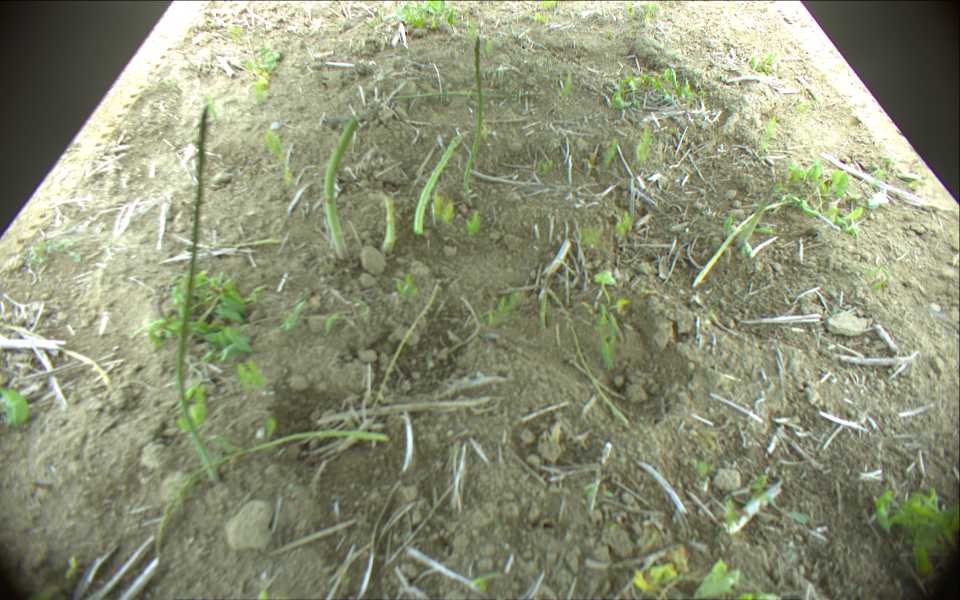aspa: (153, 429, 389, 559), (176, 107, 220, 486), (691, 200, 804, 287), (413, 131, 468, 232), (325, 116, 361, 261), (463, 37, 483, 204), (734, 181, 775, 250), (367, 91, 520, 103), (380, 196, 396, 255)
